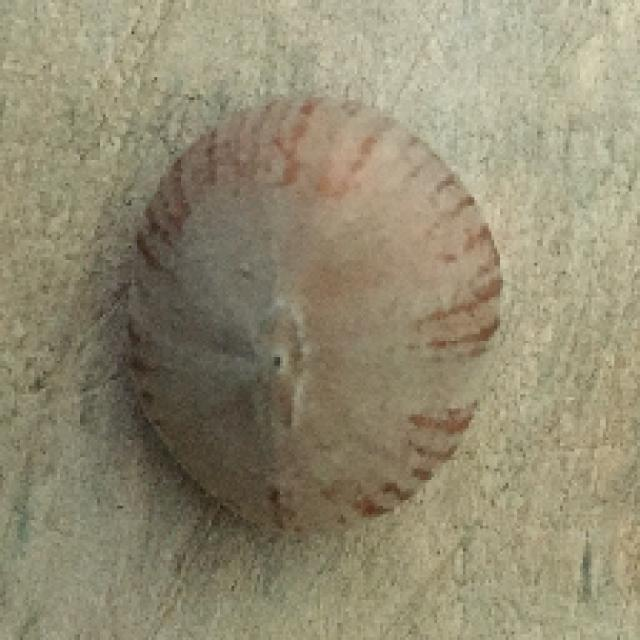qualityHazelnut: (134, 96, 499, 530)
